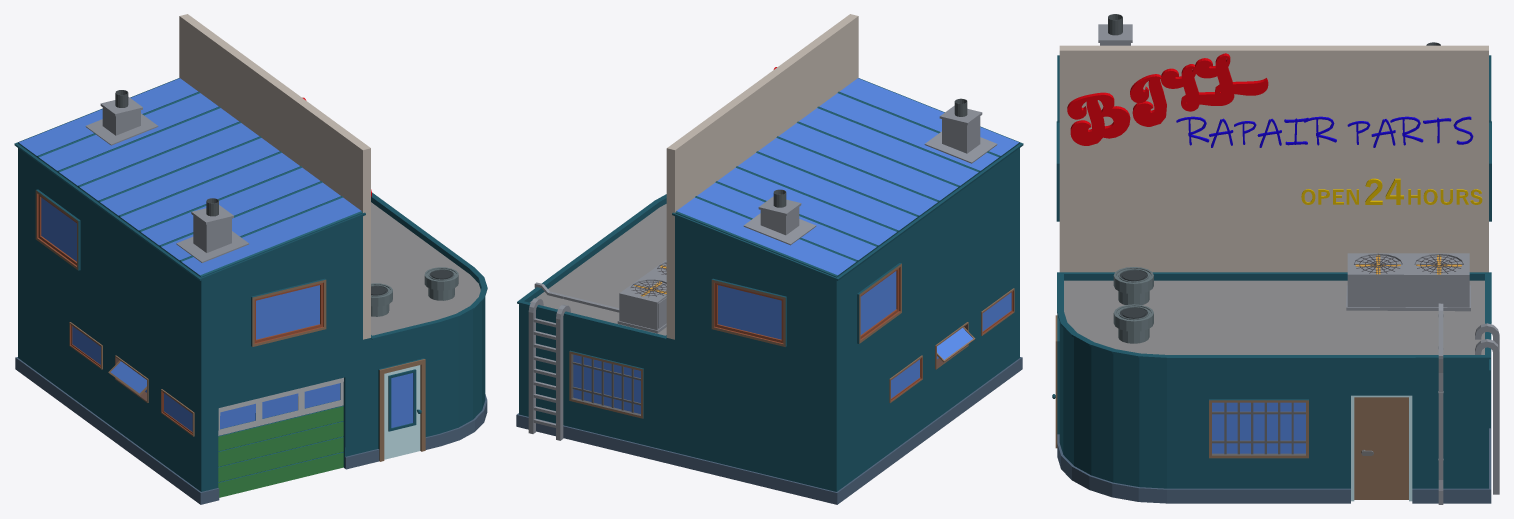
File: AutoRepairShop.gltf
3 views of the same model, side by side, from view 1: azimuth 30°, elevation 25°; view 2: azimuth 150°, elevation 25°; view 3: azimuth 270°, elevation 25° (orthographic). The views are drawn at different scales.
Parts seen in each view (by area): view 1: AutoRepairShop; view 2: AutoRepairShop; view 3: AutoRepairShop.
Boxes of the visible parts, <box> form: AutoRepairShop: <box>14,14,487,504</box>; AutoRepairShop: <box>516,14,1023,504</box>; AutoRepairShop: <box>1052,14,1499,504</box>.
Bounding box in the file's own units: 8.32 × 7.56 × 8.34.
